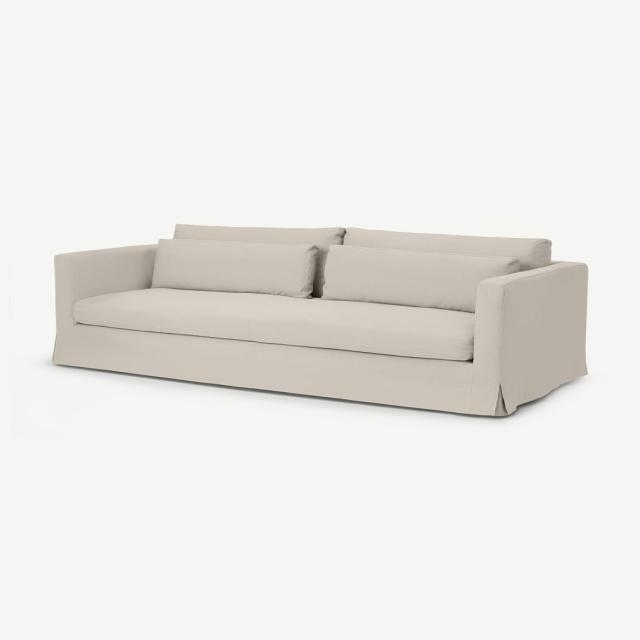Soffa: (47, 219, 594, 421)
